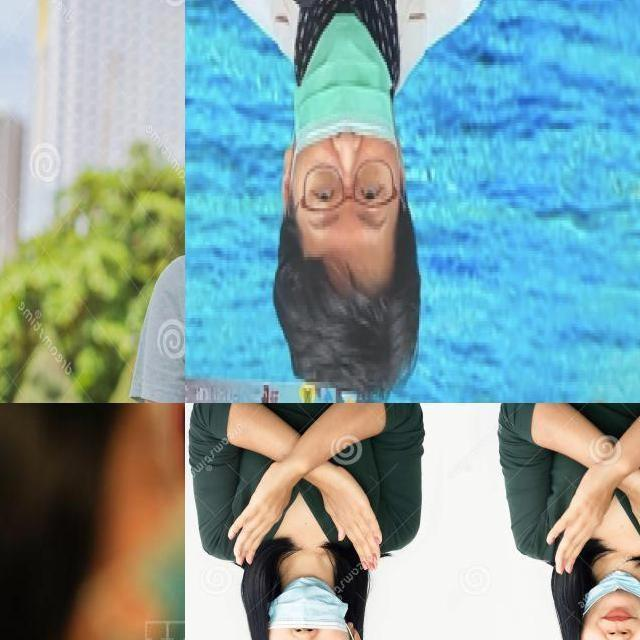hairnet: (283, 12, 408, 239), (266, 589, 345, 639), (580, 579, 639, 639)
no_apron: (543, 450, 618, 574), (222, 453, 300, 571), (315, 463, 395, 574)
no_gloves: (264, 207, 435, 399)
